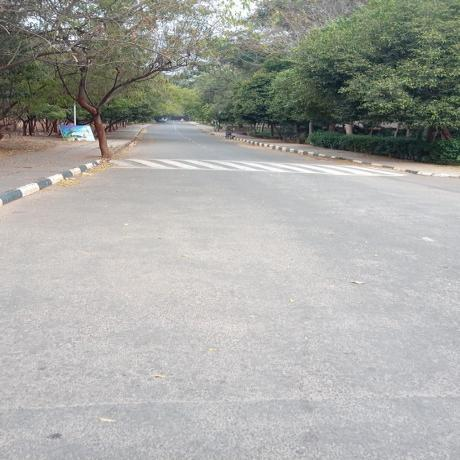Speed Bump: (94, 157, 401, 174)
